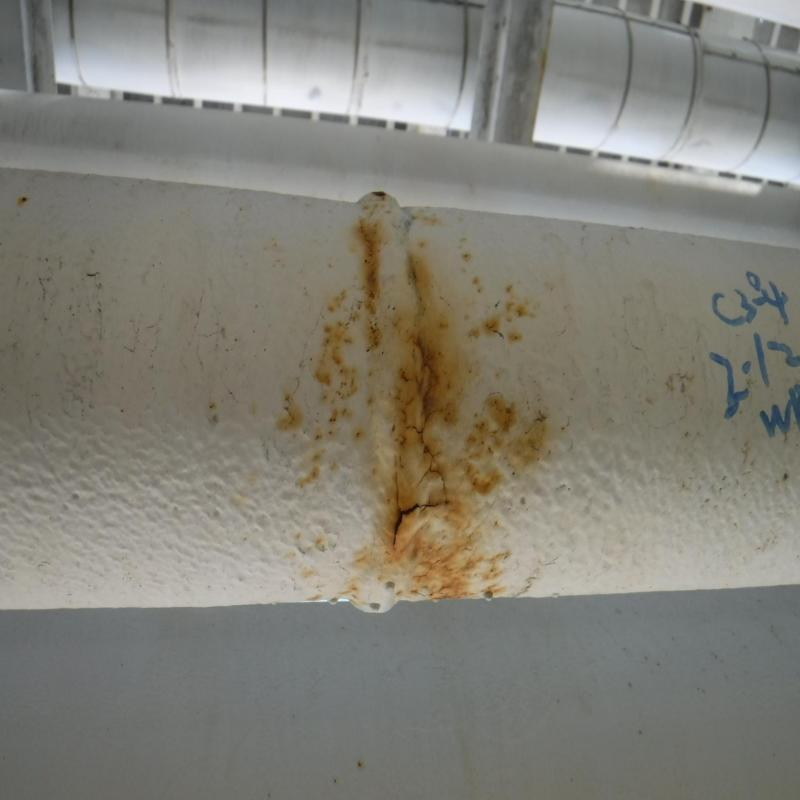corrosion: (402, 320, 461, 586)
